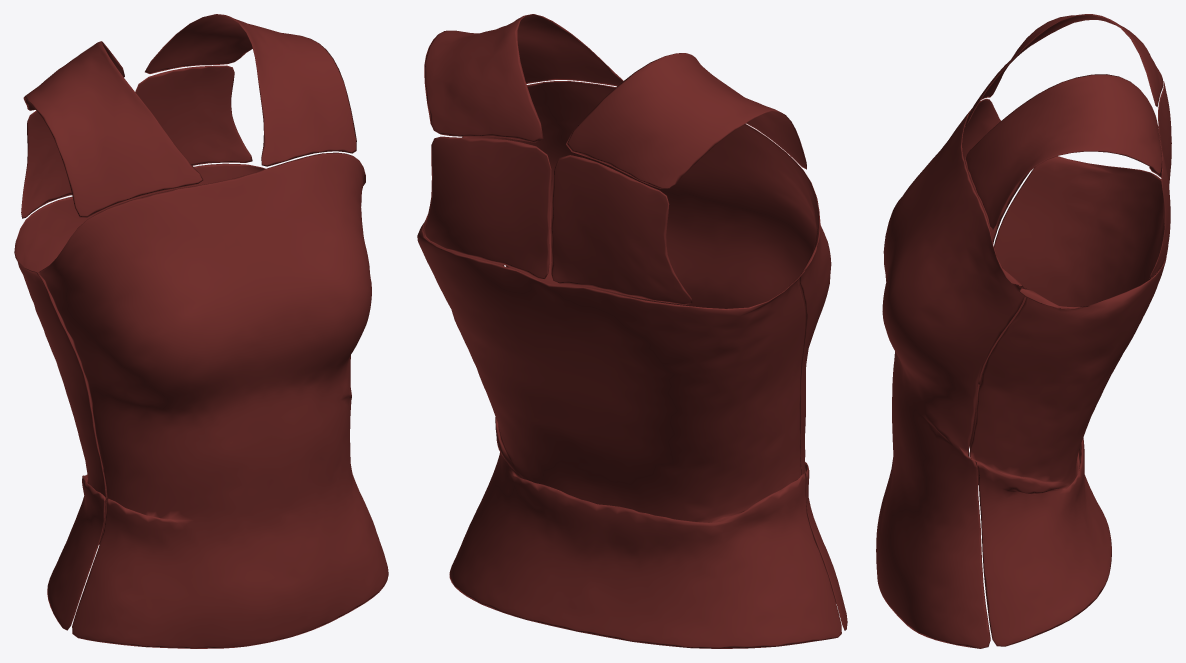
The model's file is kebaya.gltf.
The picture shows the model from 3 angles, left to right: view 1: azimuth 30°, elevation 25°; view 2: azimuth 150°, elevation 25°; view 3: azimuth 270°, elevation 25°; orthographic projection. The views are drawn at different scales.
Parts seen in each view (by area): view 1: Pattern2D_30527; view 2: Pattern2D_30527; view 3: Pattern2D_30527.
Part boxes in pixels (x1,y1,x2,y2): Pattern2D_30527: [14, 14, 388, 648]; Pattern2D_30527: [417, 14, 847, 648]; Pattern2D_30527: [876, 14, 1171, 648].
Size of the model in its own units: 2.83 by 4.52 by 2.28.
